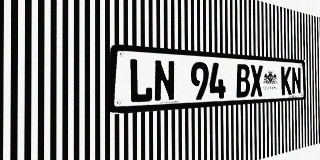4: (209, 62, 226, 99)
9: (191, 61, 209, 100)
B: (236, 64, 250, 98)
K: (281, 66, 291, 95)
L: (128, 58, 153, 104)
N: (154, 59, 175, 102), (291, 67, 301, 95)
X: (250, 65, 263, 97)
